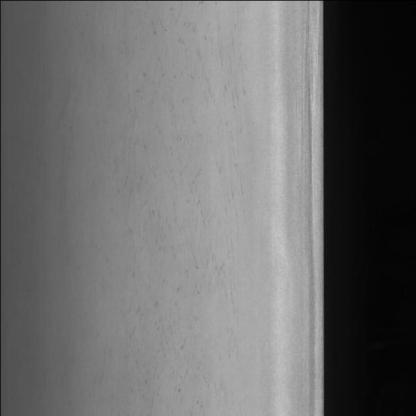silk_spot: (141, 0, 261, 328)
